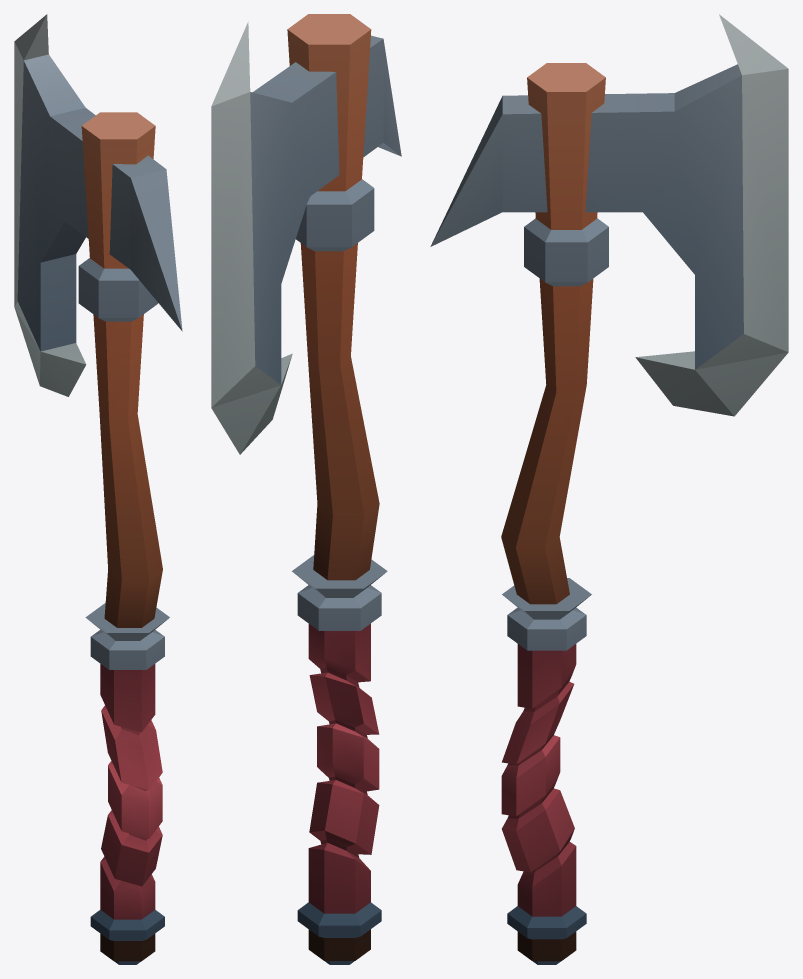
The model's file is Axe.fbx.
3 views of the same model, side by side, from view 1: azimuth 30°, elevation 25°; view 2: azimuth 150°, elevation 25°; view 3: azimuth 270°, elevation 25° (orthographic). The views are drawn at different scales.
Visible parts, largest first — view 1: Axe_small; view 2: Axe_small; view 3: Axe_small.
Part boxes in pixels (x1=…): Axe_small: x1=14, y1=14, x2=182, y2=964; Axe_small: x1=211, y1=14, x2=401, y2=964; Axe_small: x1=430, y1=14, x2=788, y2=964.
Bounding box in the file's own units: 0.0517 × 0.6882 × 0.2368.
